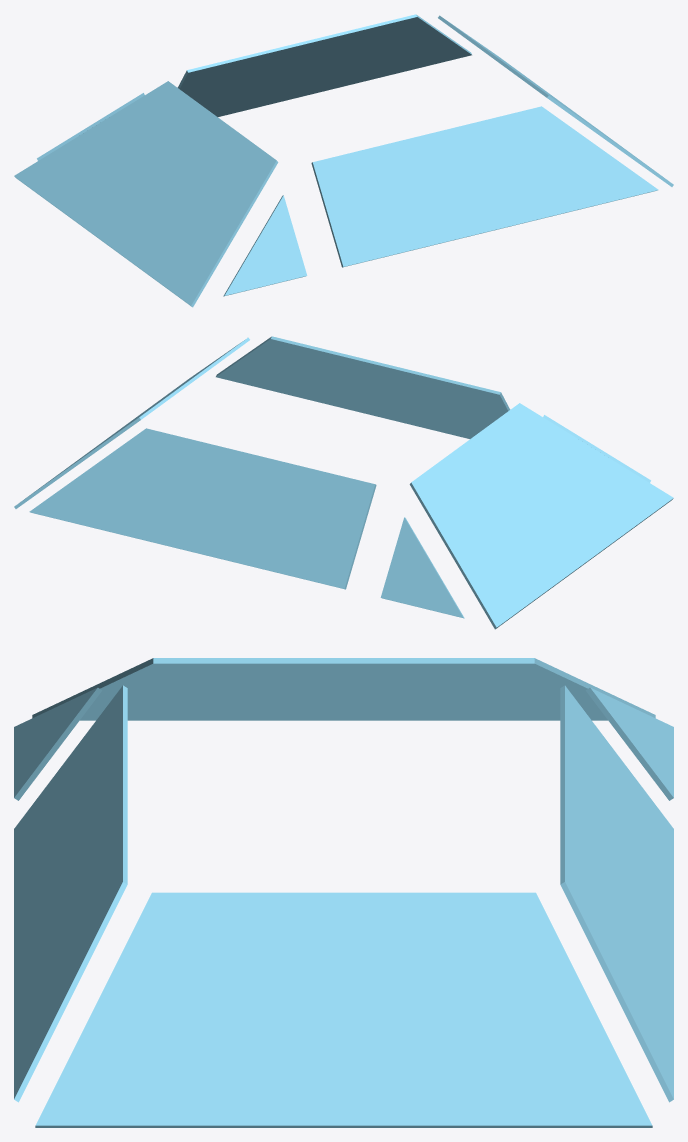
Rendered from Windows.glb.
3 views of the same model, one above another, from view 1: azimuth 30°, elevation 25°; view 2: azimuth 150°, elevation 25°; view 3: azimuth 270°, elevation 25° (orthographic). The views are drawn at different scales.
Parts seen in each view (by area): view 1: Cube.026; view 2: Cube.026; view 3: Cube.026.
Boxes of the visible parts, x1=… form: Cube.026: x1=14, y1=14, x2=673, y2=307; Cube.026: x1=14, y1=336, x2=673, y2=629; Cube.026: x1=14, y1=658, x2=673, y2=1127.
Size of the model in its own units: 0.0866 by 0.016 by 0.0582.
1 material, 1 textured.
